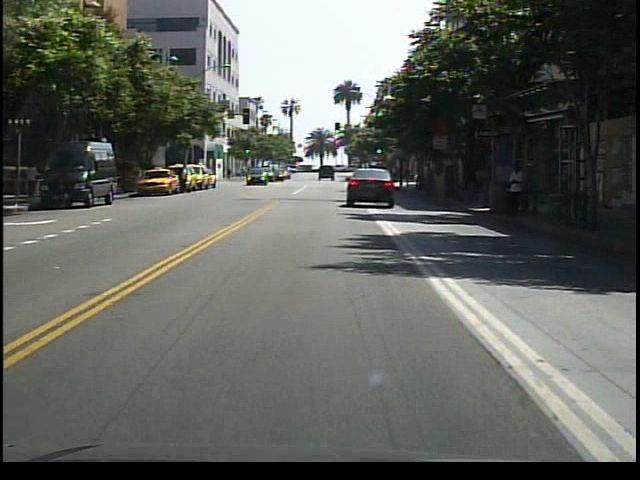person: (504, 155, 534, 222), (176, 162, 193, 198)
